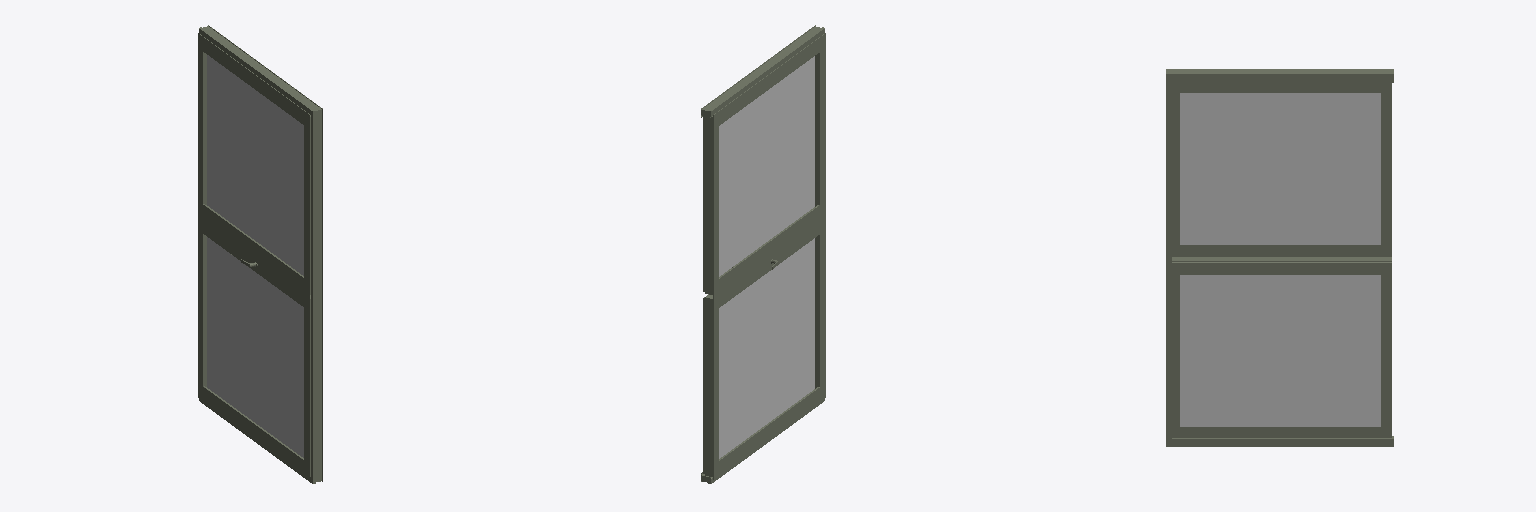
Rendered from Windows.obj.
The picture shows the model from 3 angles: view 1: azimuth 30°, elevation 25°; view 2: azimuth 150°, elevation 25°; view 3: azimuth 270°, elevation 25°; orthographic projection.
Parts seen in each view (by area): view 1: Vertical; view 2: Vertical; view 3: Vertical.
Part boxes in pixels (x1,y1,x2,y2): Vertical: (198, 25, 322, 483); Vertical: (701, 25, 825, 483); Vertical: (1166, 69, 1393, 446).
Size of the model in its own units: 1.48 by 26.35 by 14.62.